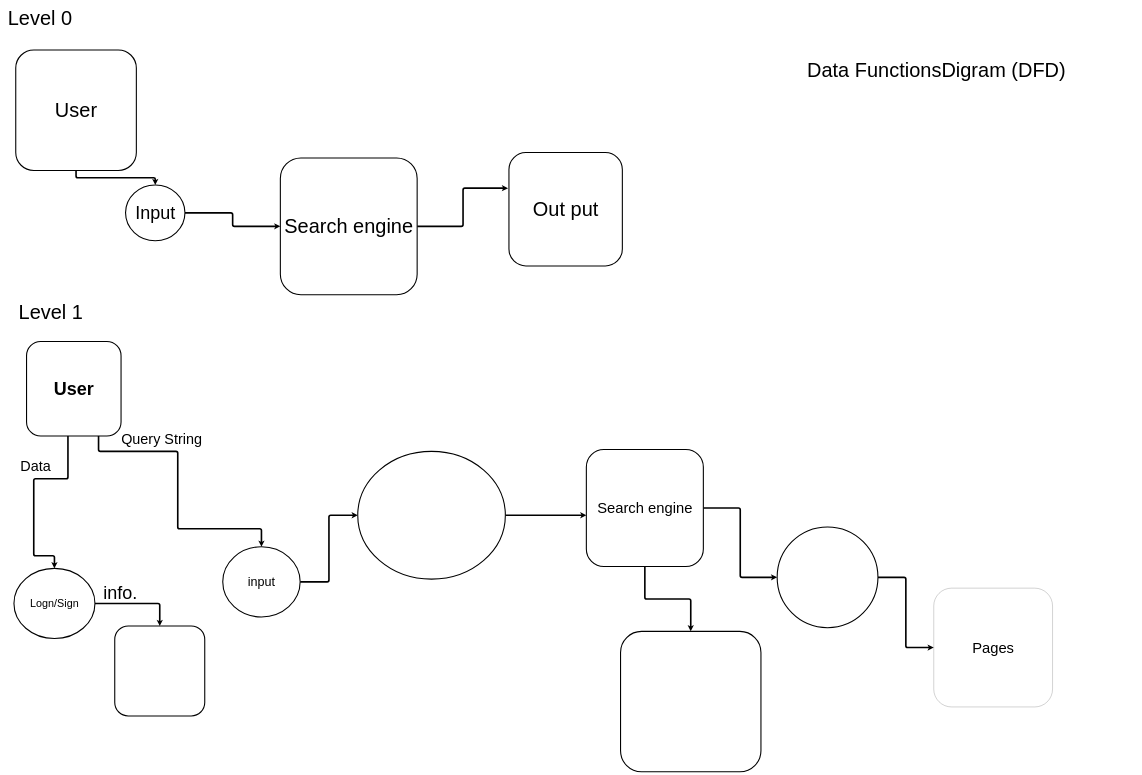
Some shapes in this 1142 by 775 pixel diagram are drawn without their labels. Here are the shapes that lost their labels. From the top down, the centre of each, then its label:
At (x=431, y=515): "Configure suggestions / paraphrase text".
At (x=827, y=577): "View".
At (x=159, y=670): "Data Base".
At (x=690, y=701): "Data set".
